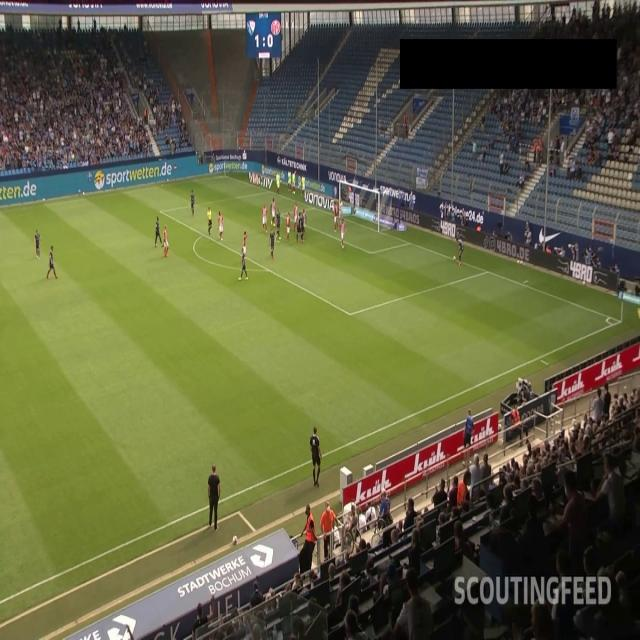ball: (452, 253, 457, 261)
player: (45, 242, 60, 279), (160, 227, 173, 260), (216, 207, 226, 242), (240, 247, 250, 280), (456, 235, 465, 266), (241, 228, 249, 258), (332, 199, 339, 230), (35, 228, 42, 259), (188, 188, 195, 218), (271, 195, 277, 228), (276, 207, 282, 239), (338, 197, 344, 229), (262, 205, 269, 231), (268, 228, 274, 257), (286, 210, 291, 241), (340, 218, 345, 248), (156, 212, 160, 246), (297, 211, 301, 242), (302, 205, 306, 234), (294, 197, 297, 231), (300, 213, 304, 237)
